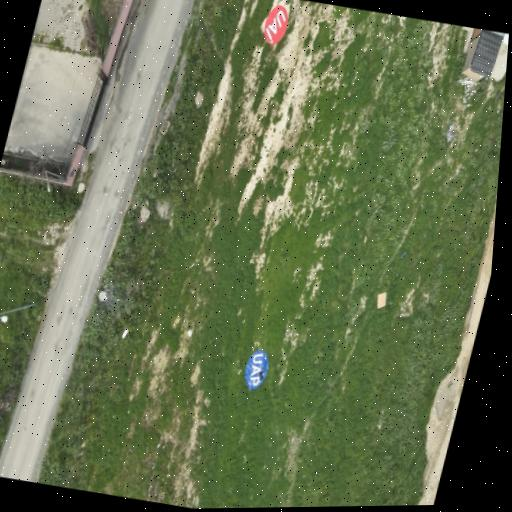person: (259, 370, 263, 380)
uai: (263, 4, 288, 45)
uap: (244, 349, 268, 389)
